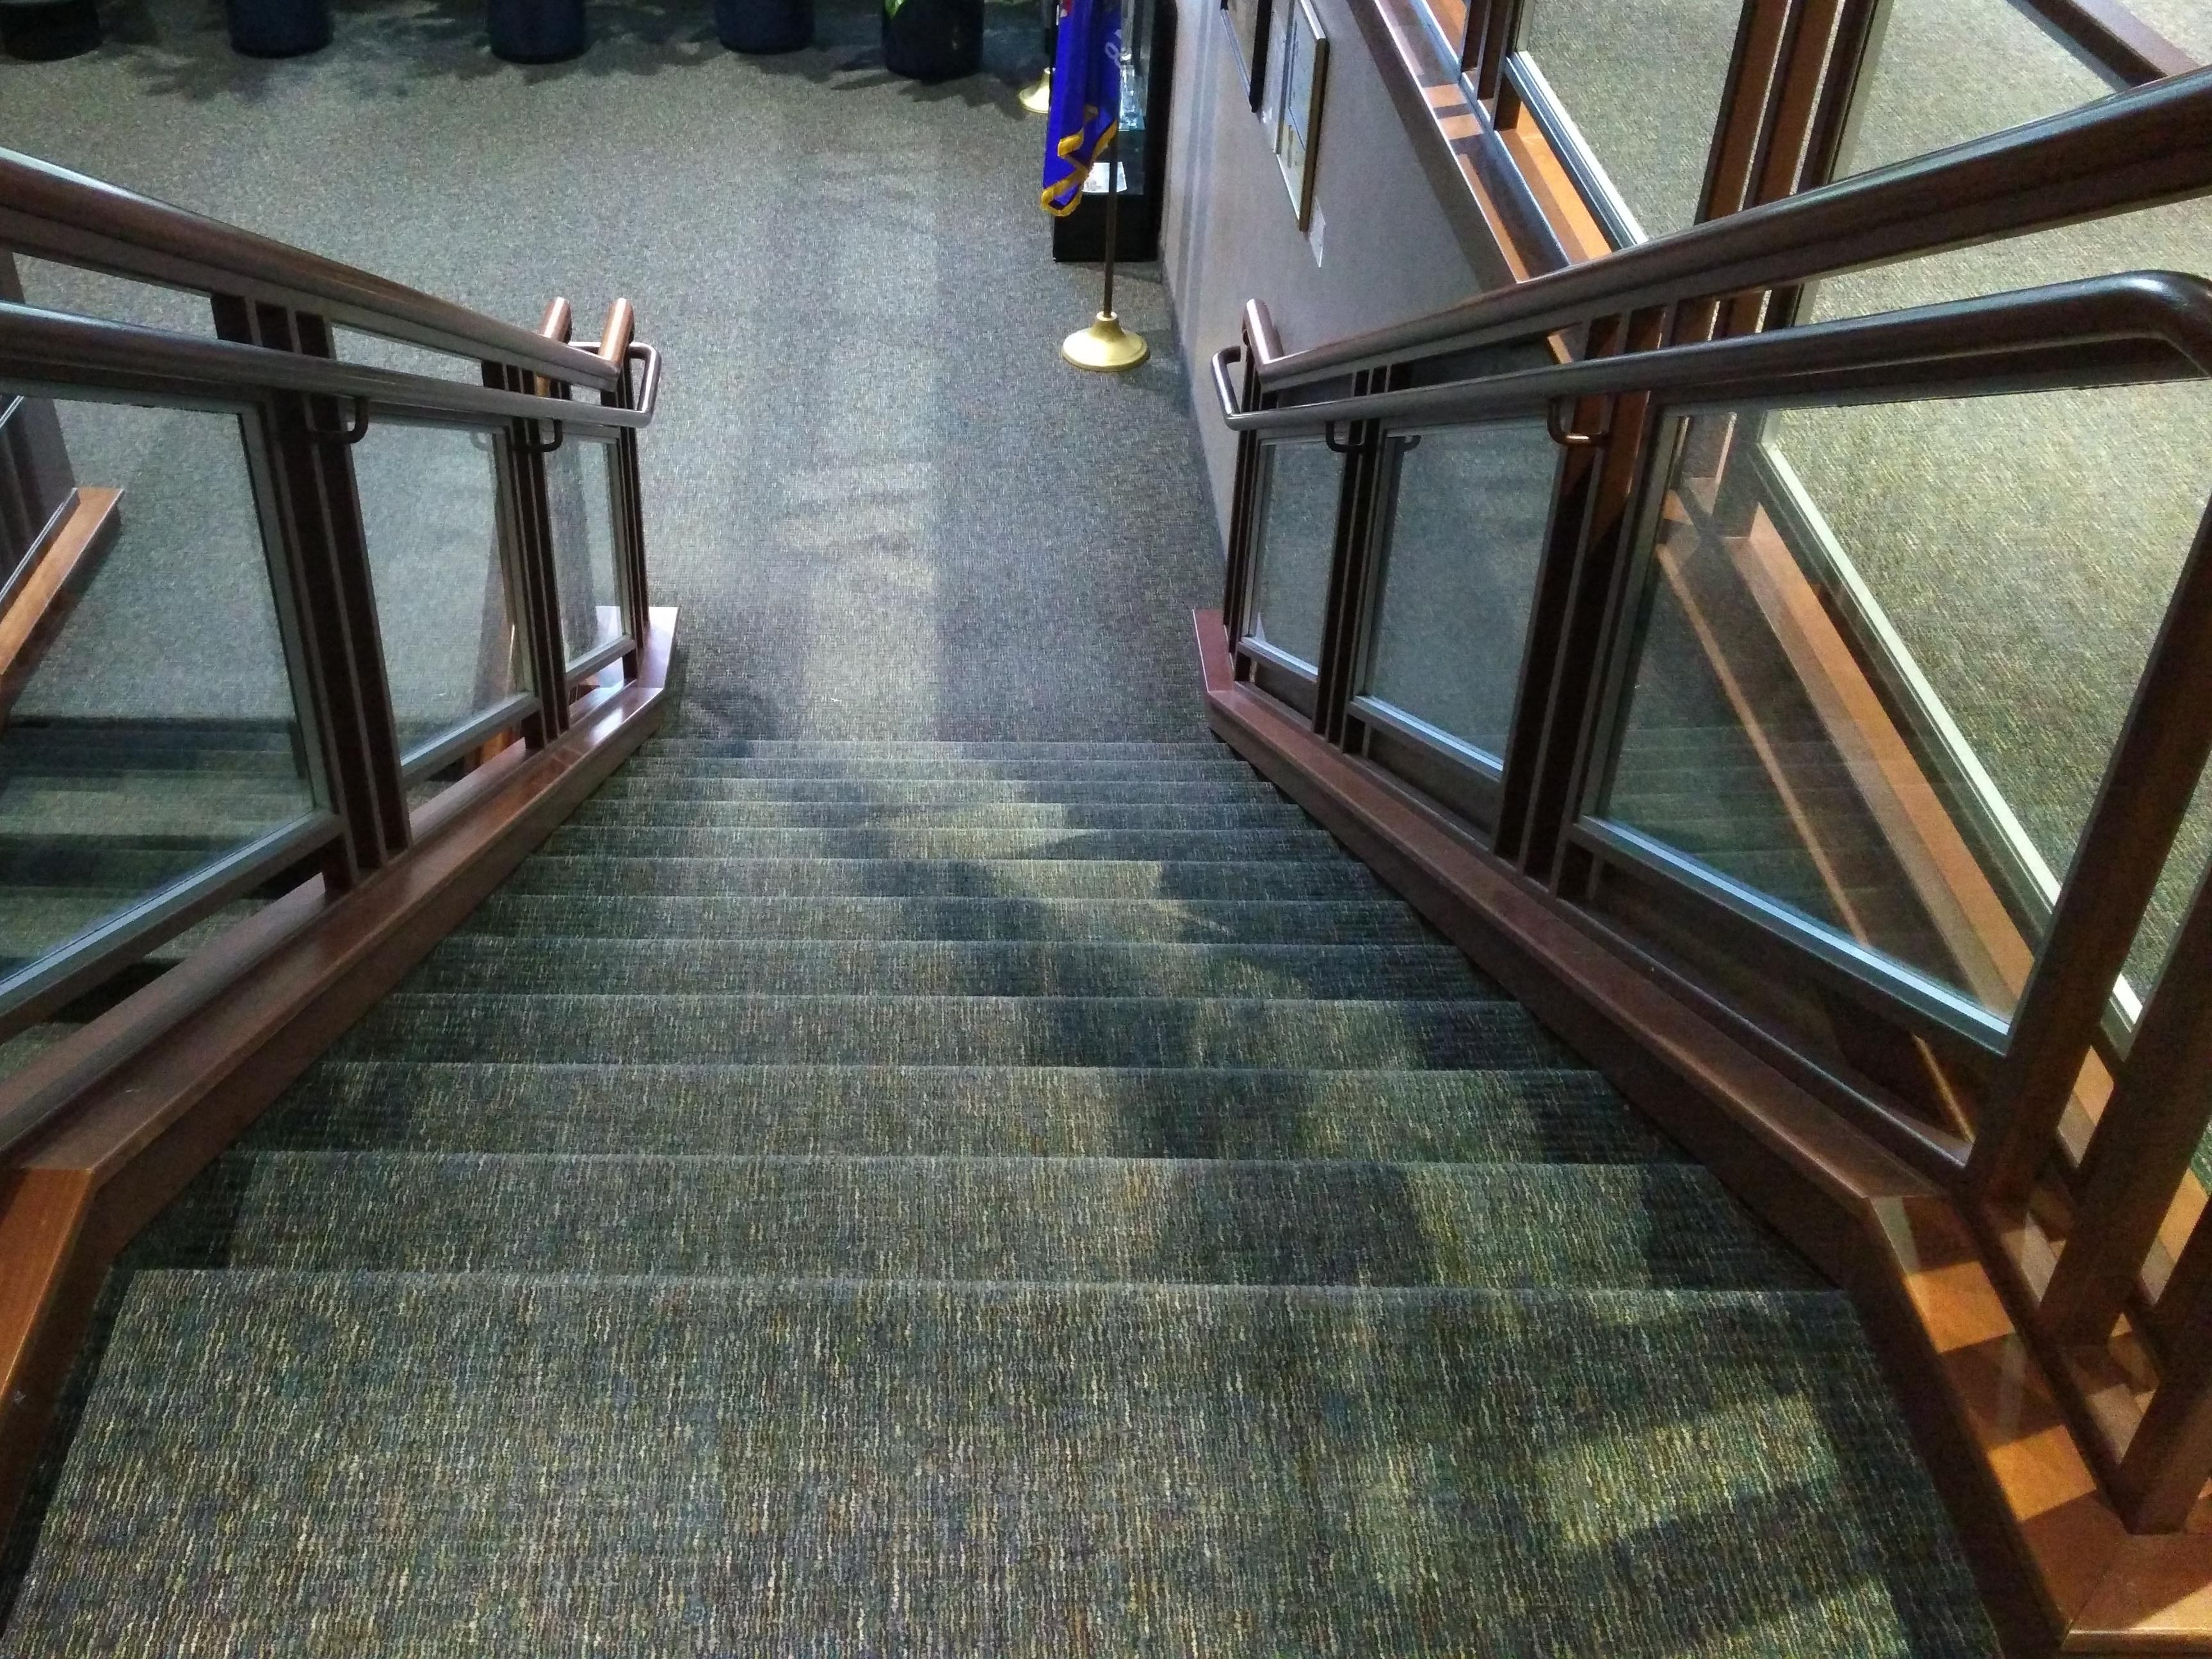stairs_down: (94, 723, 1848, 1399)
